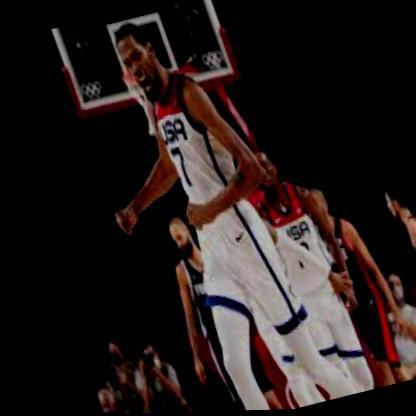rim: (115, 67, 143, 90)
